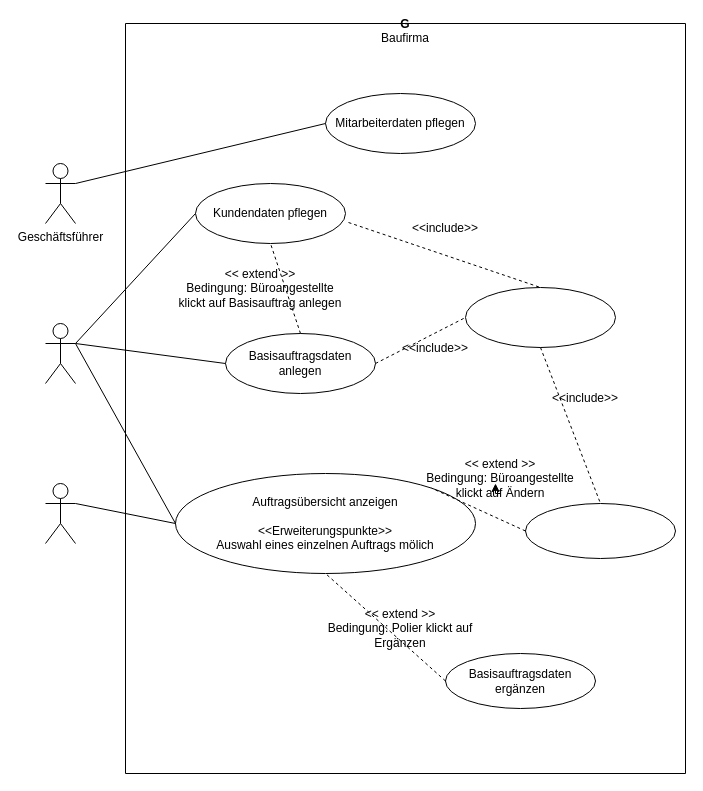
Image size: 703x791. Some labels were removed from this diagram. Each missing label, with the centre of its shape:
"Adresse ändern" goes at point (540, 317).
"Basisauftragsdaten ändern" goes at point (600, 530).
"Büroangestellter" goes at point (60, 353).
"Polier" goes at point (60, 513).
